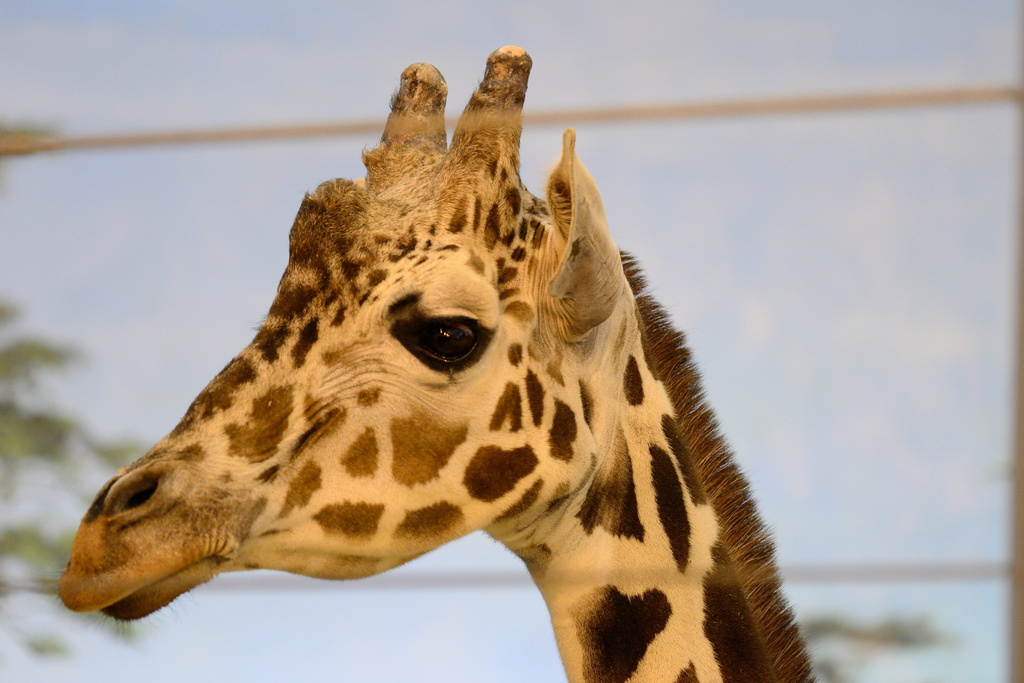giraffe: (72, 77, 849, 657)
